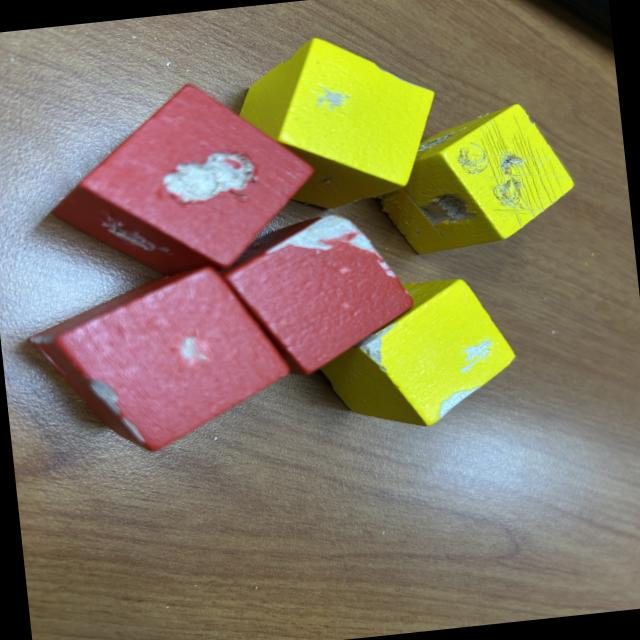broken: (38, 71, 324, 288), (23, 258, 296, 464), (230, 24, 445, 217), (203, 208, 419, 382), (302, 271, 522, 436), (366, 98, 580, 258)
